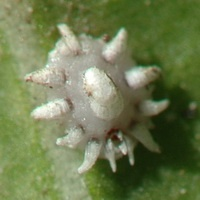insect: (25, 24, 168, 173)
